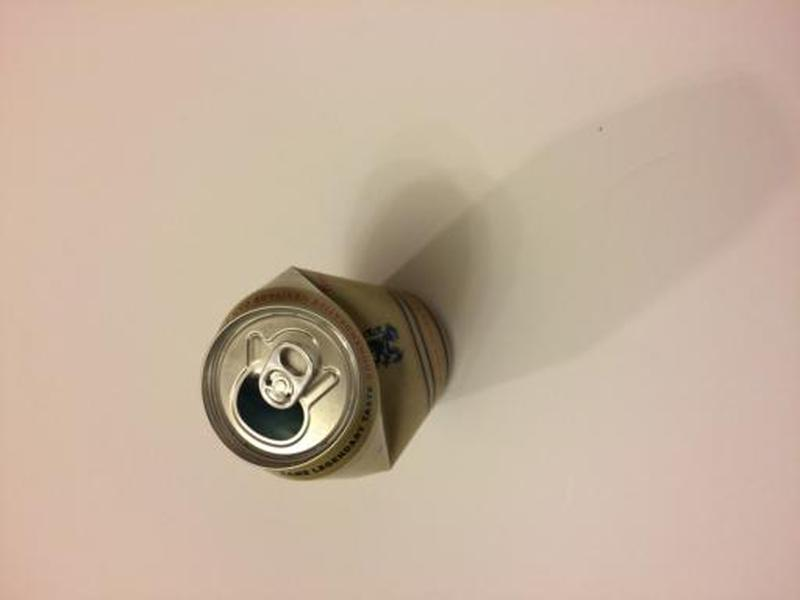can: (195, 264, 464, 486)
